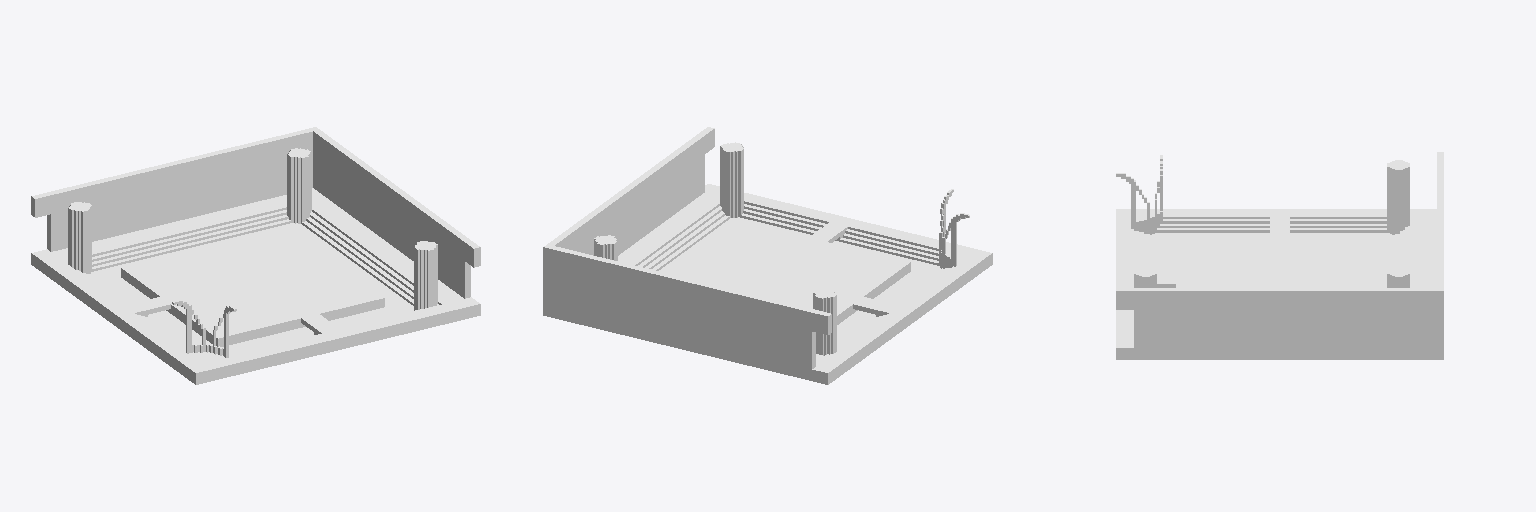
File: casketroom-2.obj
3 views of the same model, side by side, from view 1: azimuth 30°, elevation 25°; view 2: azimuth 150°, elevation 25°; view 3: azimuth 270°, elevation 25° (orthographic).
Visible parts, largest first — view 1: object 1; view 2: object 1; view 3: object 1.
Boxes of the visible parts, <box> form: object 1: <box>31,127,480,384</box>; object 1: <box>543,127,992,384</box>; object 1: <box>1116,152,1443,359</box>.
Bounding box in the file's own units: 12.6 × 2.9 × 12.6.